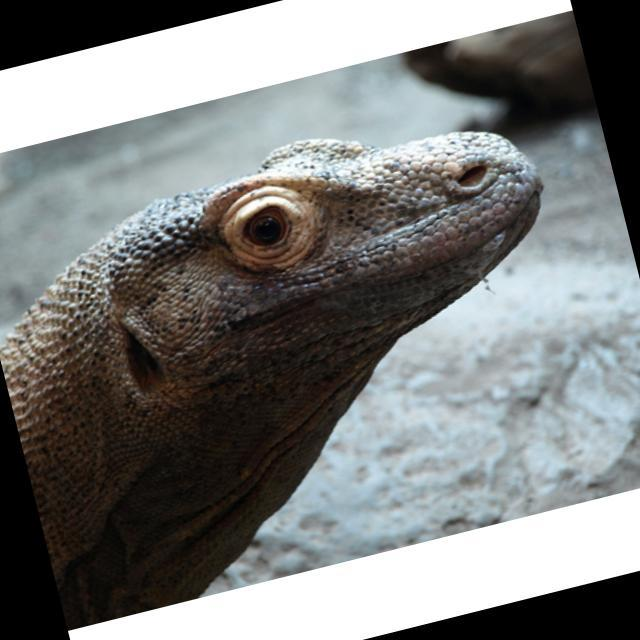KomodoDragon: (0, 83, 617, 624)
